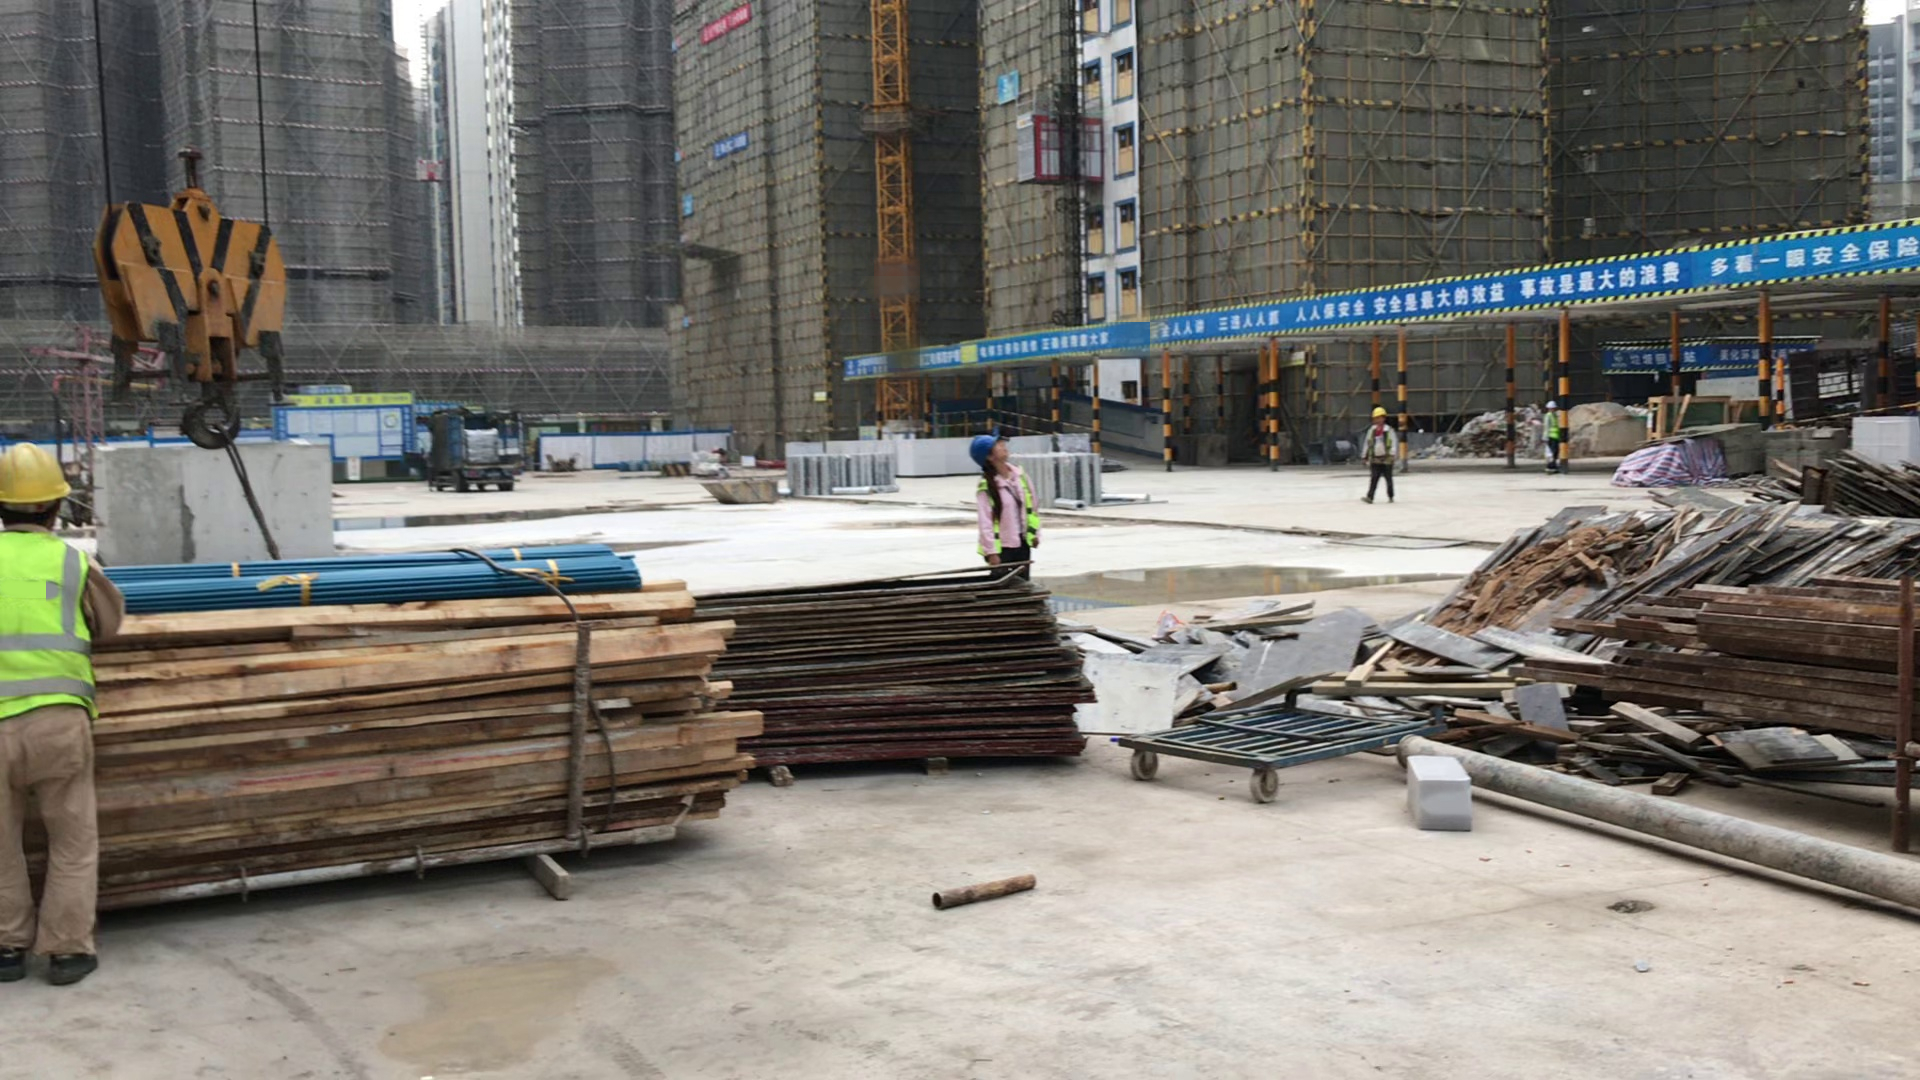board: (717, 575, 1093, 773)
brick: (1848, 408, 1916, 476), (894, 433, 971, 476)
handcart: (1122, 685, 1442, 794)
helmet: (1, 440, 84, 513), (970, 433, 1001, 465), (1370, 406, 1389, 419), (1544, 399, 1559, 411)
hook: (96, 147, 301, 447)
hopper: (695, 470, 782, 507)
person: (1, 436, 108, 989), (969, 418, 1040, 577), (1356, 402, 1402, 504), (1536, 397, 1564, 476)
slogan: (1214, 247, 1698, 336), (1707, 231, 1920, 287), (1606, 337, 1797, 371), (696, 4, 759, 46), (709, 125, 755, 157), (994, 67, 1016, 101)
vest: (1, 533, 88, 715), (1016, 465, 1037, 550), (1546, 412, 1561, 442)
wood: (100, 572, 713, 928)
